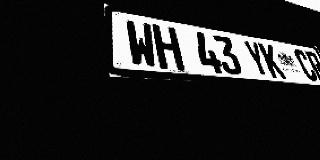3: (212, 34, 243, 75)
4: (192, 31, 224, 74)
C: (292, 49, 319, 81)
H: (151, 24, 185, 71)
K: (258, 42, 287, 79)
R: (304, 51, 320, 82)
W: (124, 19, 159, 69)
Y: (242, 40, 272, 78)
